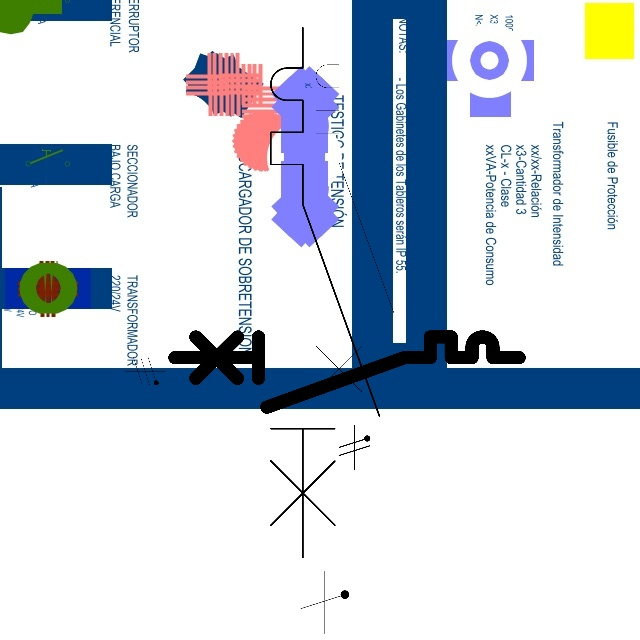interruptor_termomagnetico: (257, 14, 393, 571), (306, 26, 403, 425), (165, 328, 527, 416)
